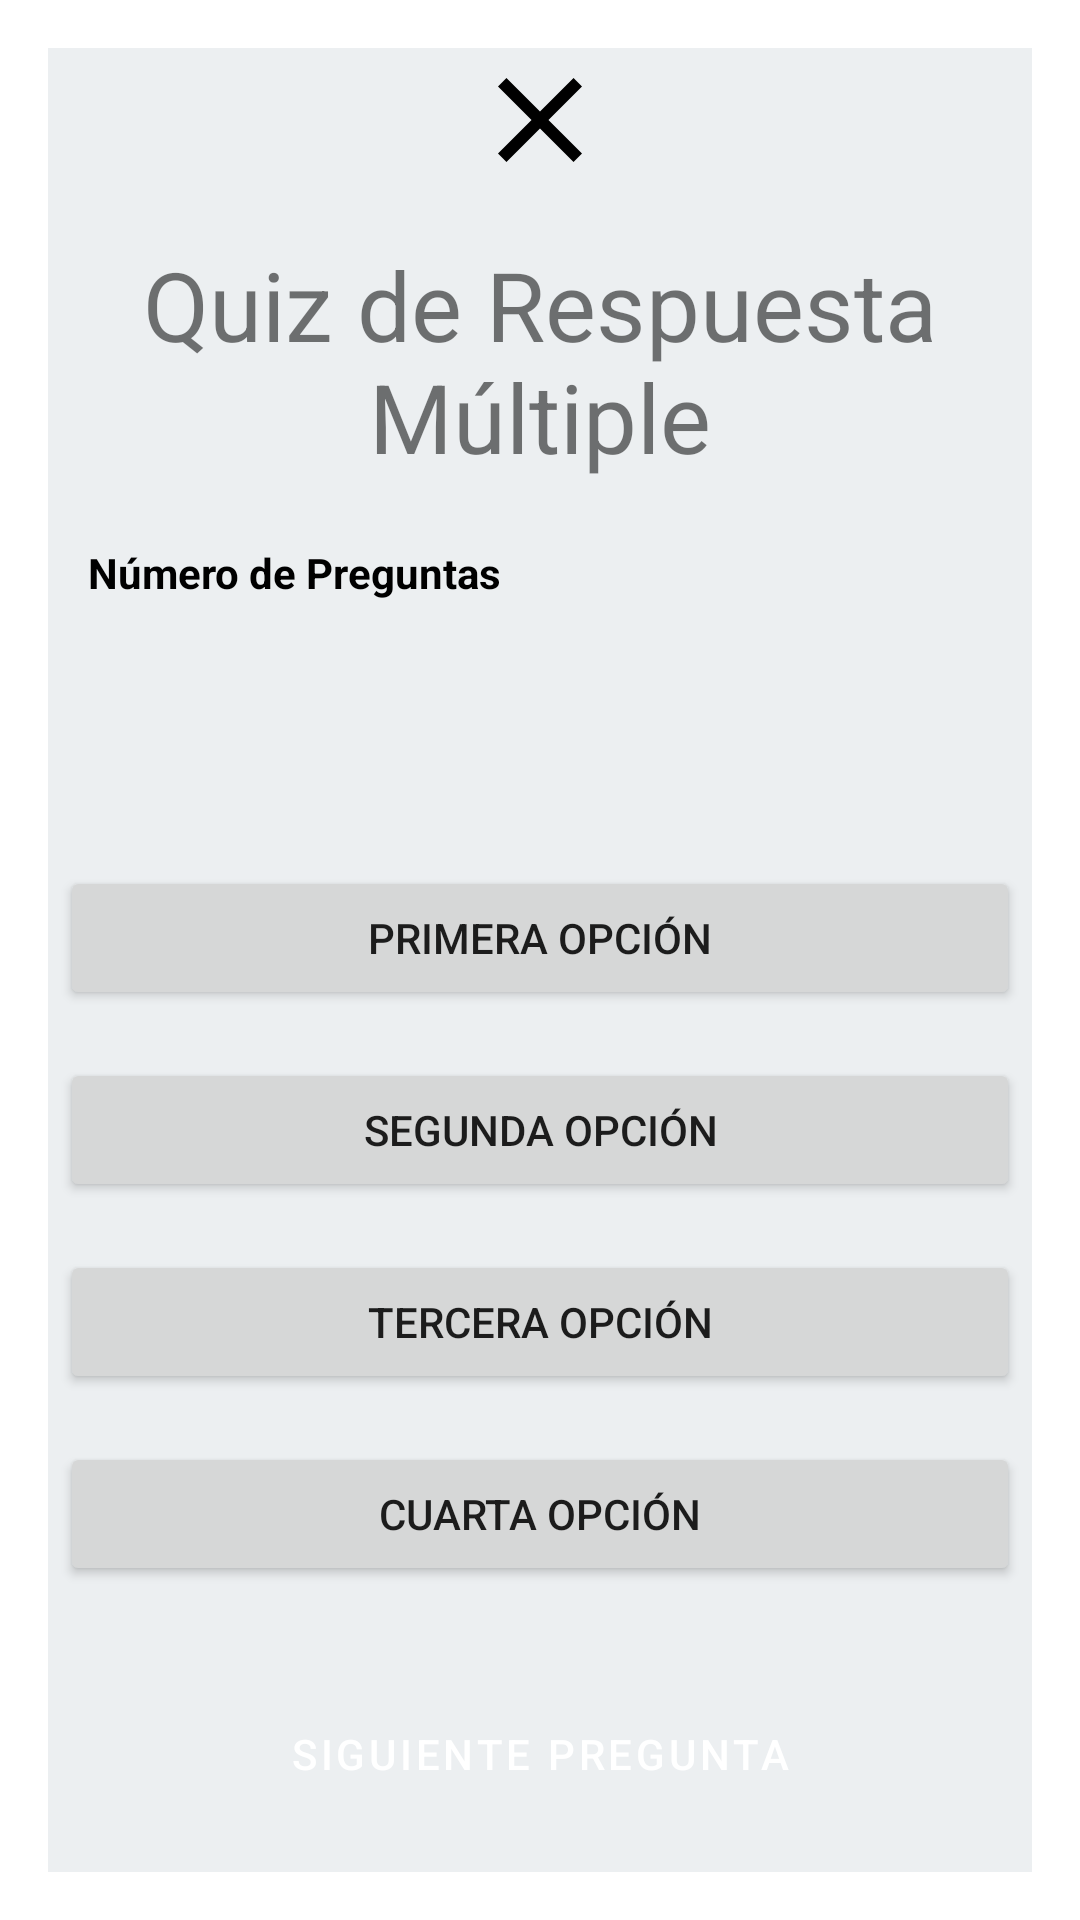

Named icons in this screenshot (1080×1920) and their bounding boxes, (x1, y1, x2, y2):
Cerrar Pantalla: (498, 78, 582, 162)
